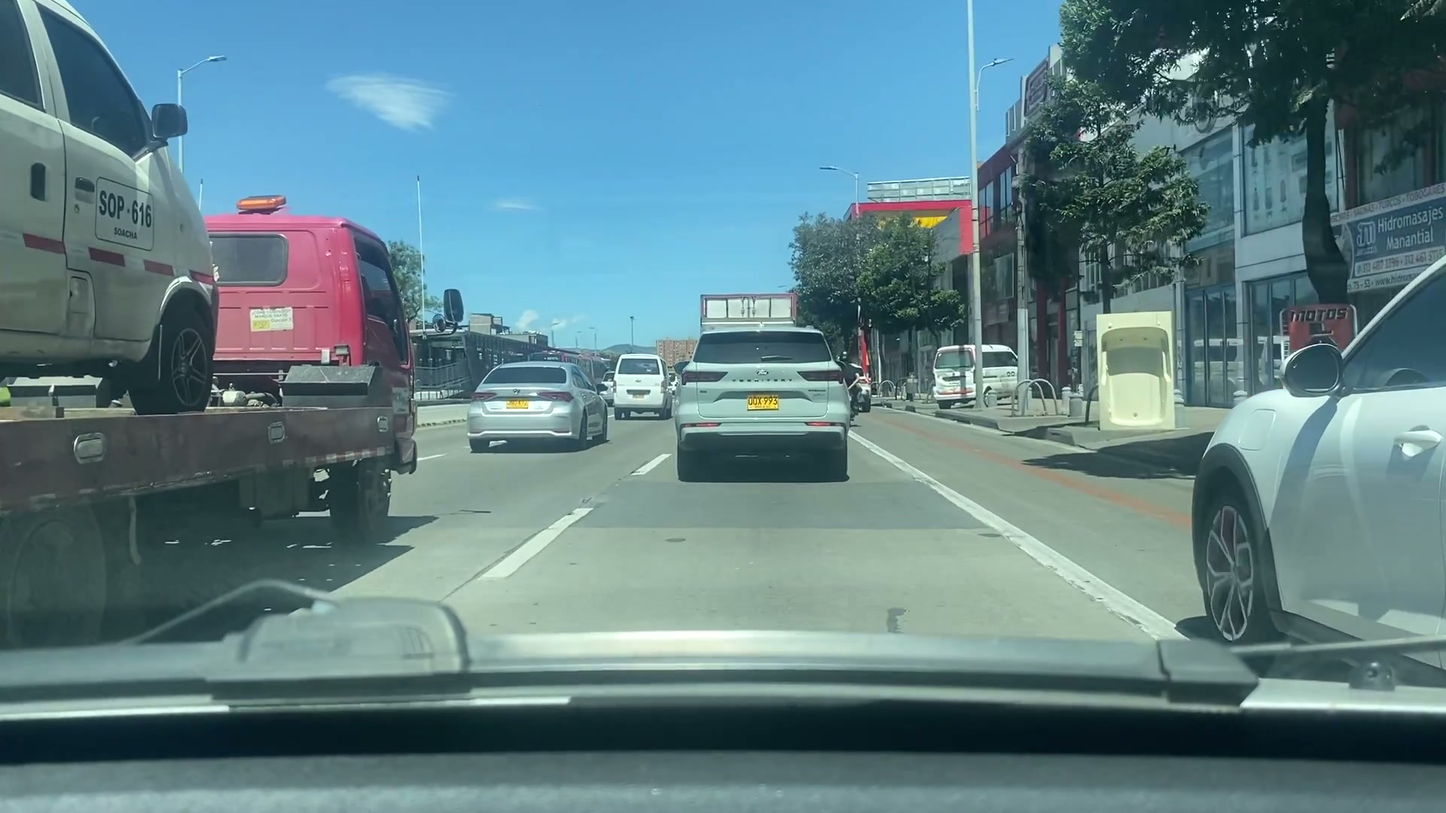bus: (609, 354, 672, 422)
car: (1186, 254, 1446, 676), (668, 325, 852, 481), (467, 360, 616, 448)
